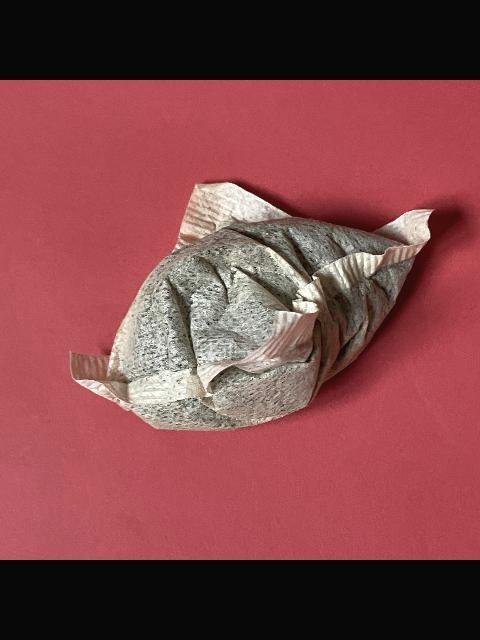teabag: (66, 180, 434, 434)
